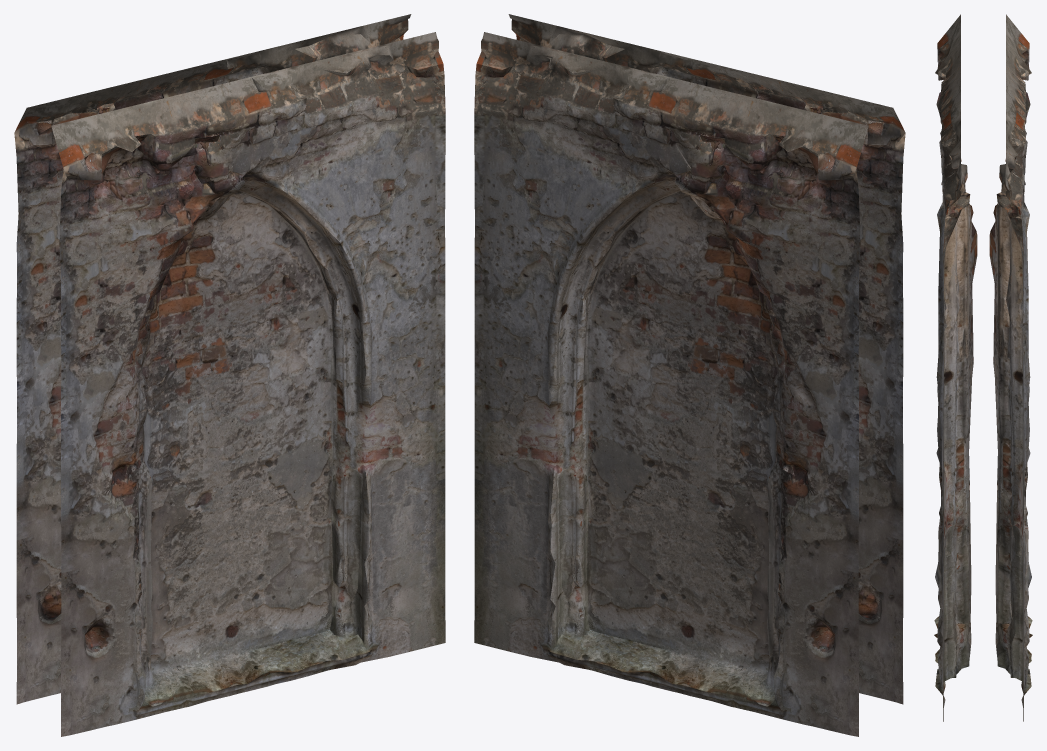
The model's file is SM_ChapelWall_02_02.fbx.
3 views of the same model, side by side, from view 1: azimuth 30°, elevation 25°; view 2: azimuth 150°, elevation 25°; view 3: azimuth 270°, elevation 25° (orthographic). The views are drawn at different scales.
Visible parts, largest first — view 1: sm_ChapelWall_02_02_LOD0; view 2: sm_ChapelWall_02_02_LOD0; view 3: sm_ChapelWall_02_02_LOD0.
Part boxes in pixels (x1,y1,x2,y2): sm_ChapelWall_02_02_LOD0: (14,14,445,736); sm_ChapelWall_02_02_LOD0: (474,14,905,736); sm_ChapelWall_02_02_LOD0: (934,14,1032,721).
Bounding box in the file's own units: 60.99 × 250 × 375.
